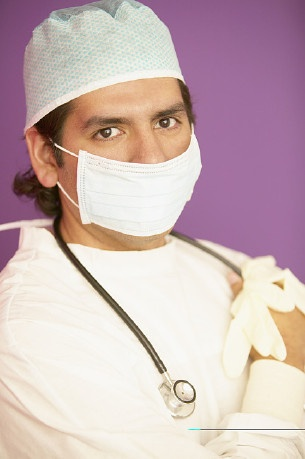Mask: (51, 94, 198, 240)
